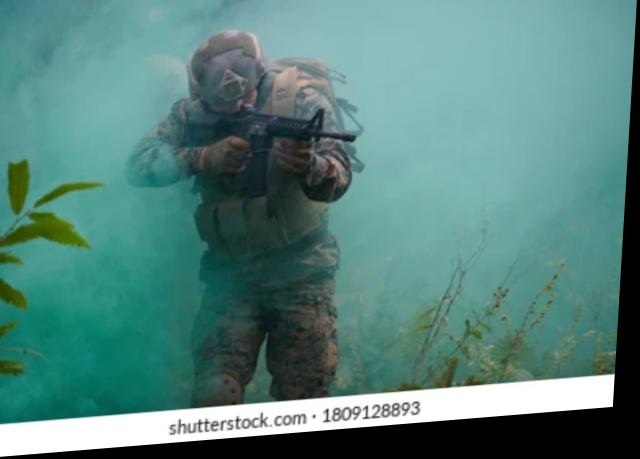other: (126, 35, 365, 409)
